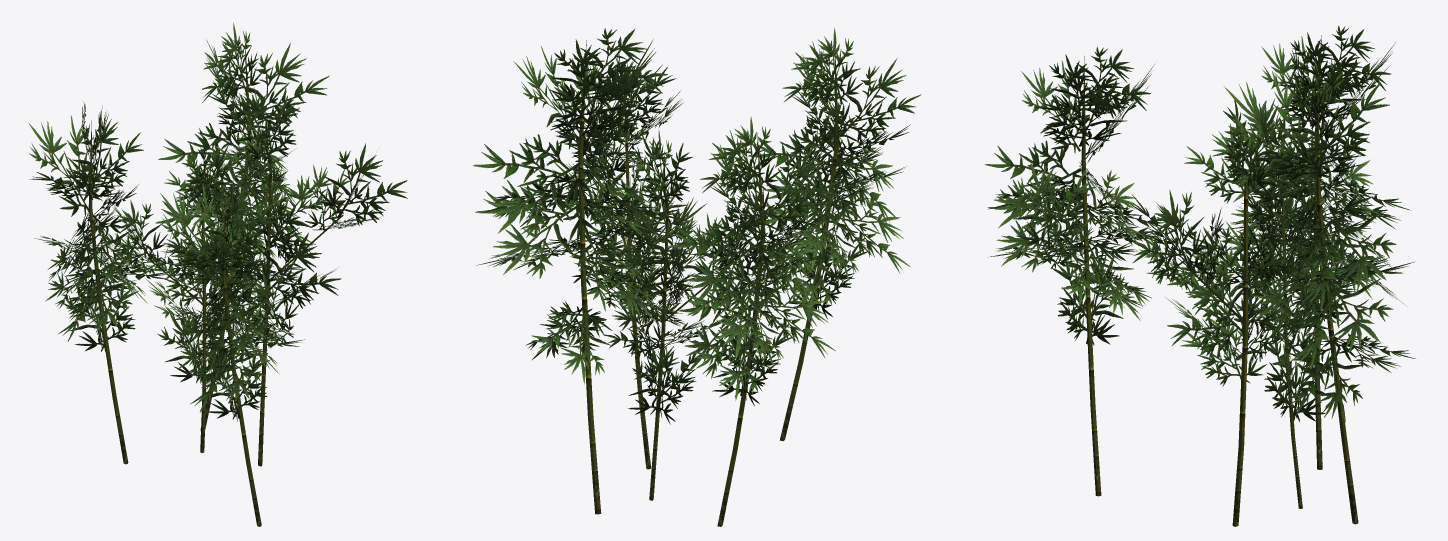
The model's file is tree_d.FBX.
3 views of the same model, side by side, from view 1: azimuth 30°, elevation 25°; view 2: azimuth 150°, elevation 25°; view 3: azimuth 270°, elevation 25° (orthographic). The views are drawn at different scales.
Visible parts, largest first — view 1: tree_d; view 2: tree_d; view 3: tree_d.
Boxes of the visible parts, x1,y1,x2,y2 form: tree_d: (28, 22, 407, 526); tree_d: (473, 27, 921, 526); tree_d: (985, 25, 1415, 526).
Bounding box in the file's own units: 8.14 × 10.17 × 8.66.
Materials: 1 (1 with a texture image).
